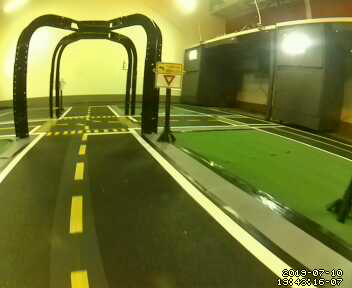Turn Yield: (154, 62, 184, 90)
